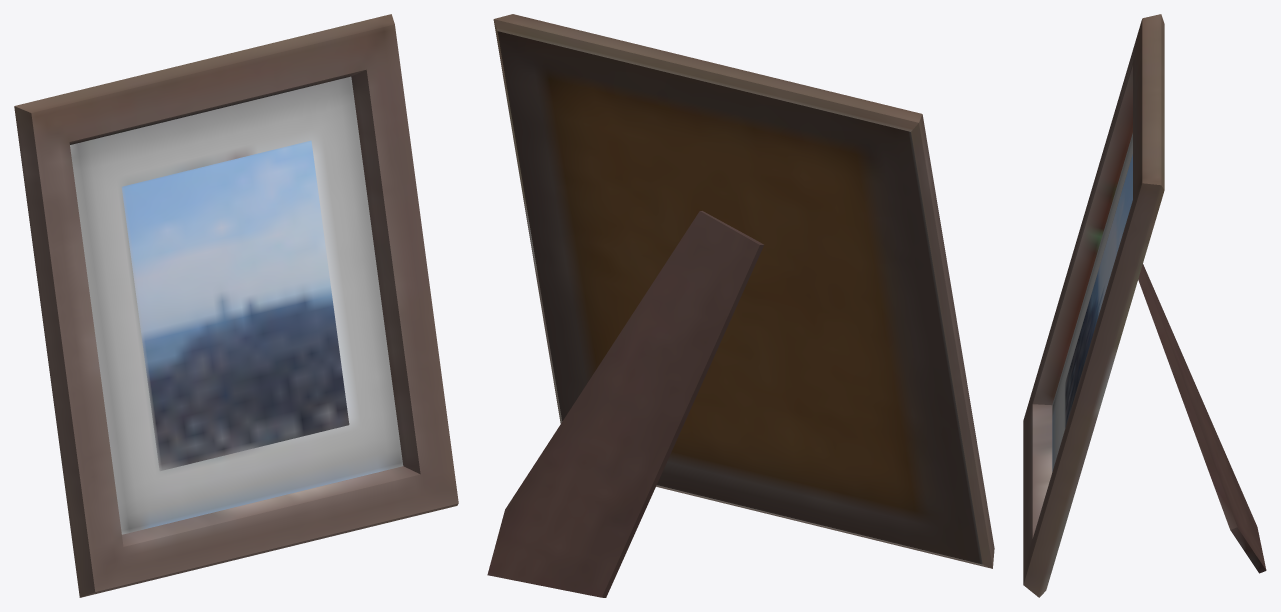
The model's file is Painting_StandPhoto_C.FBX.
3 views of the same model, side by side, from view 1: azimuth 30°, elevation 25°; view 2: azimuth 150°, elevation 25°; view 3: azimuth 270°, elevation 25° (orthographic). The views are drawn at different scales.
Visible parts, largest first — view 1: Painting_StandPhoto_C; view 2: Painting_StandPhoto_C; view 3: Painting_StandPhoto_C.
Part boxes in pixels (box(x1,y1,x2,y2)): Painting_StandPhoto_C: box(14, 14, 458, 597); Painting_StandPhoto_C: box(487, 14, 994, 597); Painting_StandPhoto_C: box(1023, 14, 1266, 597).
Size of the model in its own units: 17.28 by 19.42 by 10.36.
